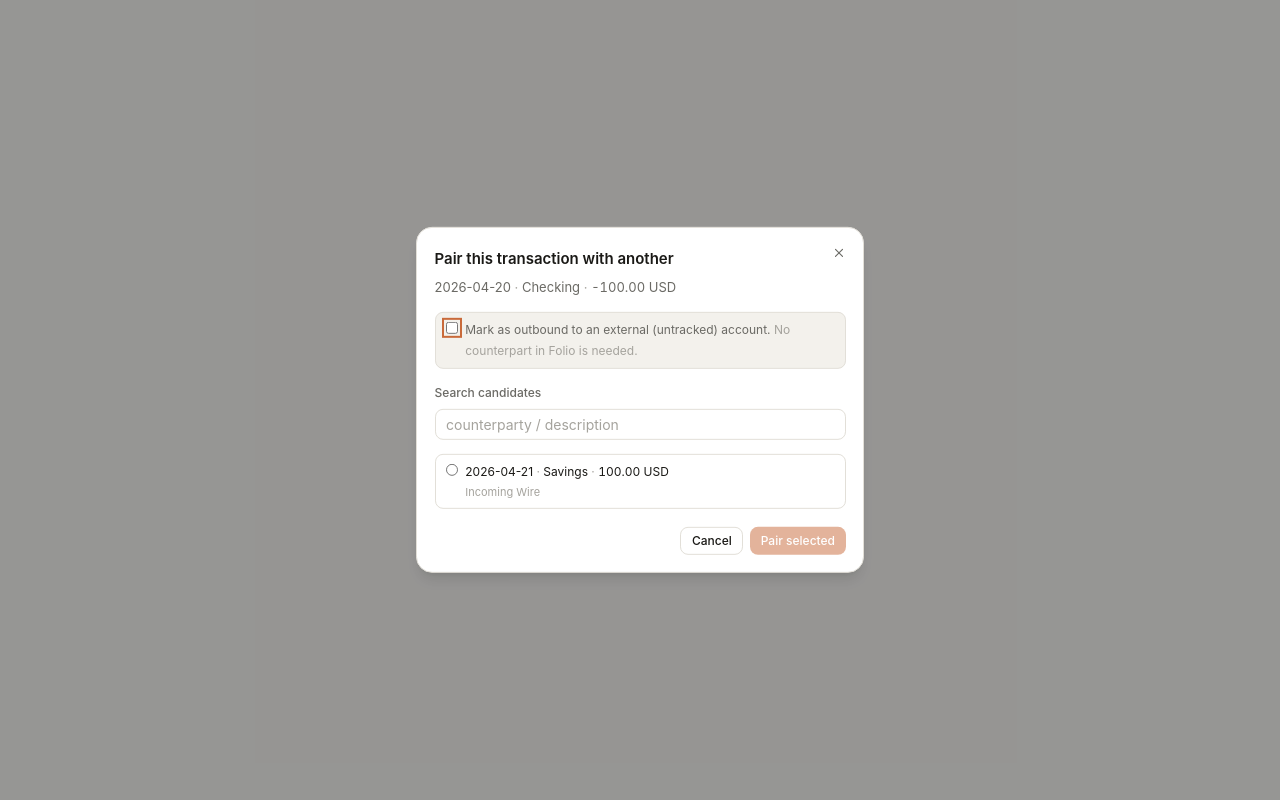
Test: <ManualPairDialog /> › toggling 'outbound to external' hides search/candidates and changes the Confirm label
The width and height of the screenshot is (1280, 800).
Expected: the number of radio buttons named "manual-pair-target" is 1, x1=446 y1=464 x2=458 y2=476
Expected: the dialog shows "Pair selected", x1=750 y1=527 x2=846 y2=555
Click the checkbox.
click(452, 328)  # box x1=446 y1=322 x2=458 y2=334
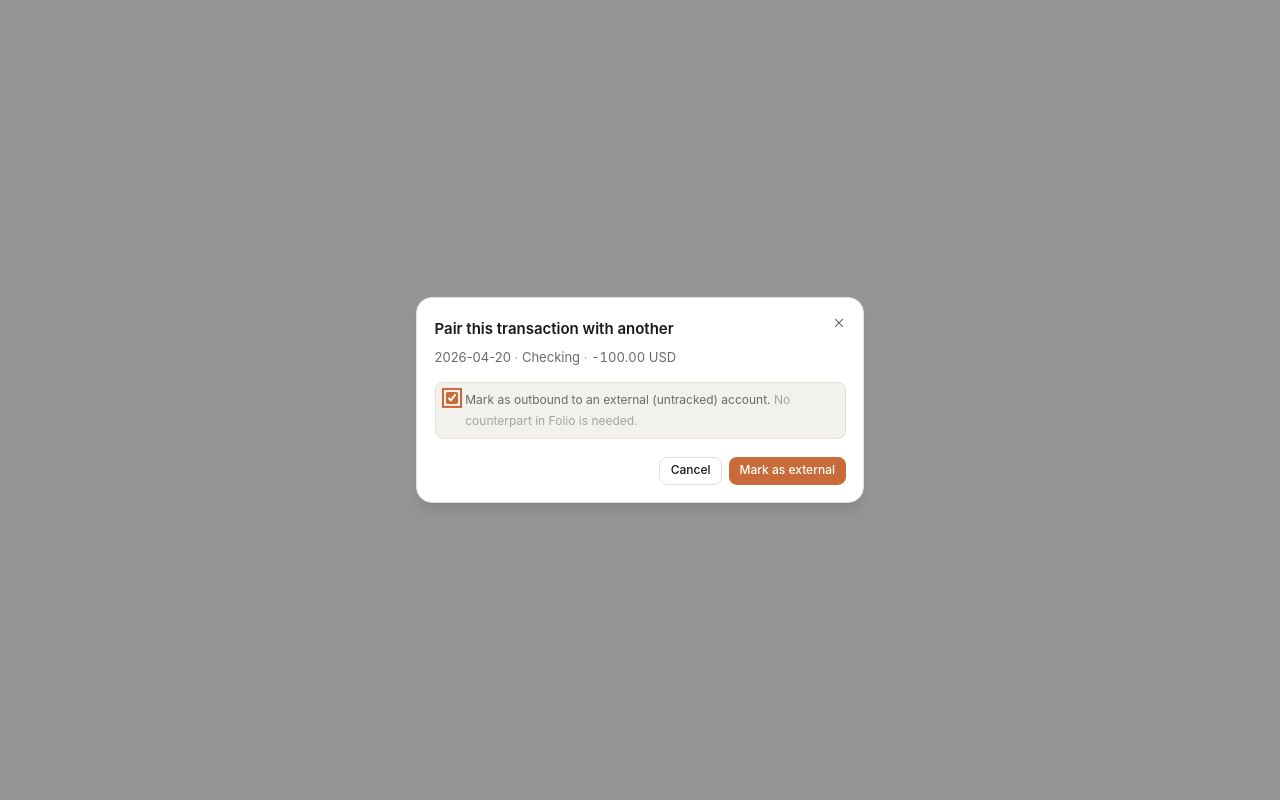
Expected: the checkbox is checked, x1=446 y1=392 x2=458 y2=404
Expected: the label with id "manual-pair-search" is gone
Expected: no radio buttons named "manual-pair-target" are shown
